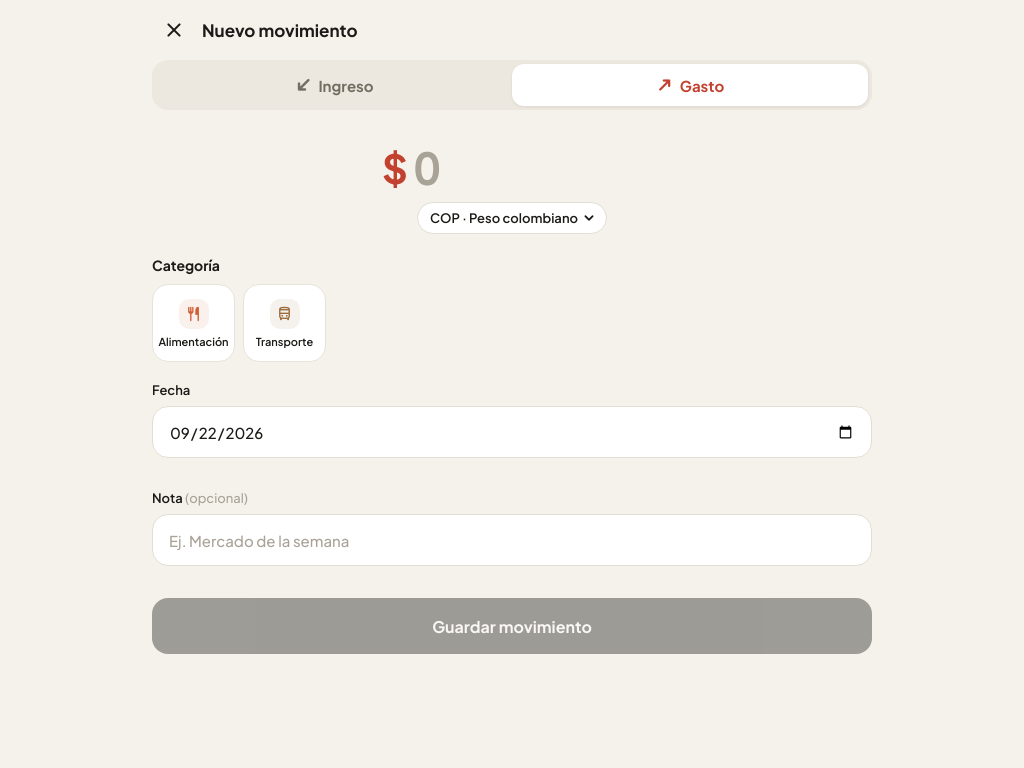
Test: Nuevo movimiento › en otra moneda aparece la caja de equivalencia
Type "140" into the field named "Importe".
click(527, 167); type("140")  # box [412,138,642,196]
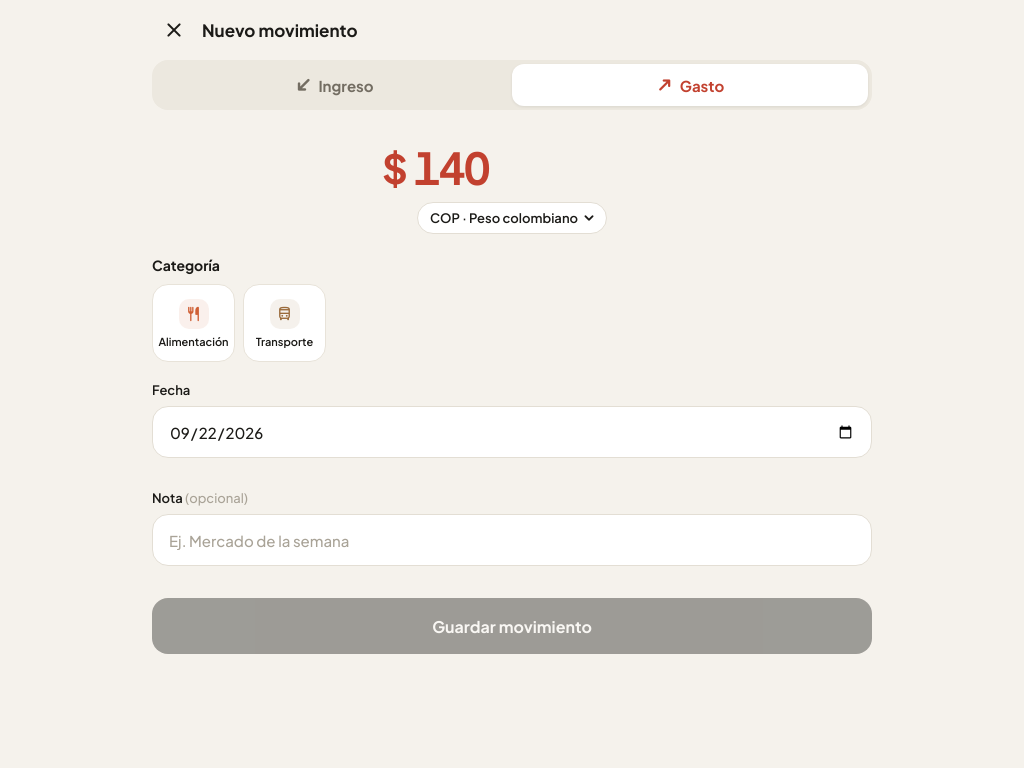
Expected: the text "Equivale a" is not shown
Click the button "COP · Peso colombiano".
click(512, 218)  # box [417,202,607,234]
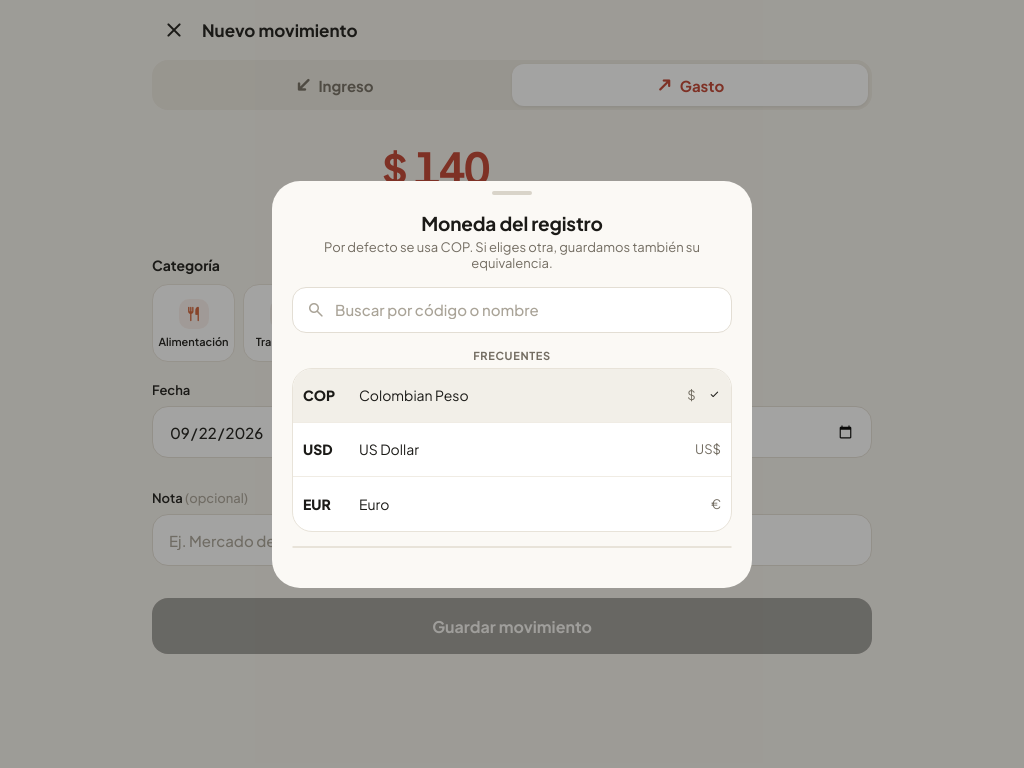
Click the button "USD US Dollar US$".
click(389, 449)  # box [293,422,731,476]
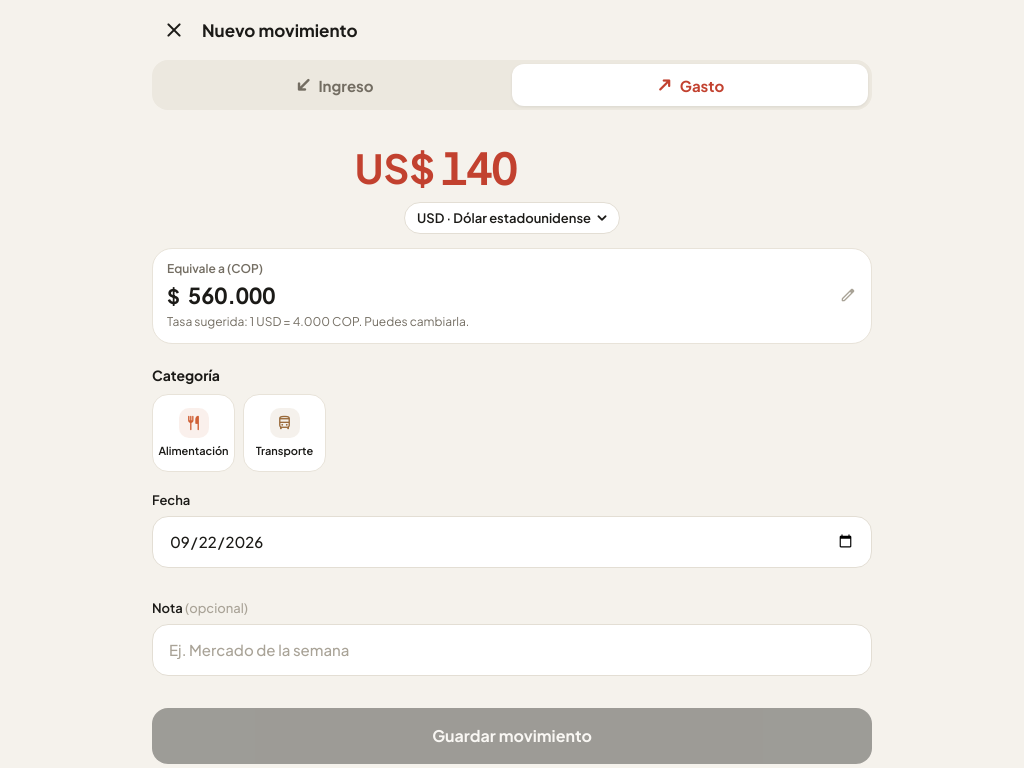
Now the text "Equivale a (COP)" is shown, box [167,261,263,276]
Now the field named "Equivalencia en COP" holds "560.000", box [186,280,833,310]
Now the text "Tasa sugerida: 1 USD = 4.000 COP. Puedes cambiarla." is shown, box [167,314,469,329]
